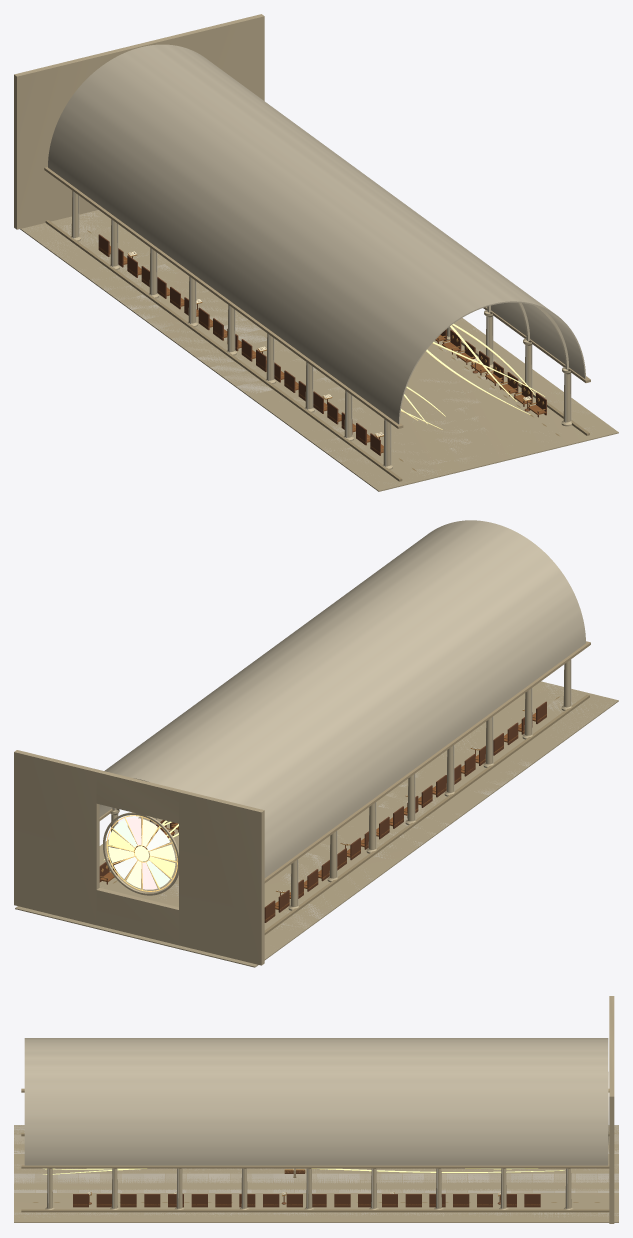
The model's file is mundo-coro.glb.
3 renders of one model, top to bottom at view 1: azimuth 30°, elevation 25°; view 2: azimuth 150°, elevation 25°; view 3: azimuth 270°, elevation 25°, orthographic. The views are drawn at different scales.
Visible parts, largest first — view 1: Nave y bóveda, Sillería tallada, Voces y tracería; view 2: Nave y bóveda, Sillería tallada, Gran rosetón, Voces y tracería; view 3: Nave y bóveda, Sillería tallada, Voces y tracería.
Boxes of the visible parts, bbox=[...] form: Nave y bóveda: bbox=[14, 14, 618, 491]; Sillería tallada: bbox=[98, 234, 546, 455]; Voces y tracería: bbox=[401, 323, 544, 429]; Nave y bóveda: bbox=[14, 520, 618, 967]; Sillería tallada: bbox=[99, 701, 546, 922]; Gran rosetón: bbox=[108, 818, 175, 889]; Voces y tracería: bbox=[104, 815, 178, 891]; Nave y bóveda: bbox=[14, 996, 618, 1223]; Sillería tallada: bbox=[73, 1192, 540, 1207]; Voces y tracería: bbox=[43, 1168, 564, 1174].
Size of the model in its own units: 66 by 39.26 by 168.
